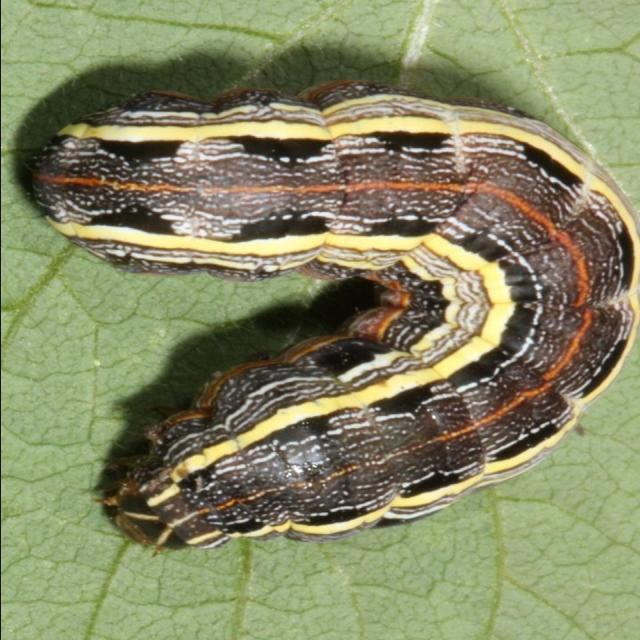army worm: (13, 82, 638, 555)
